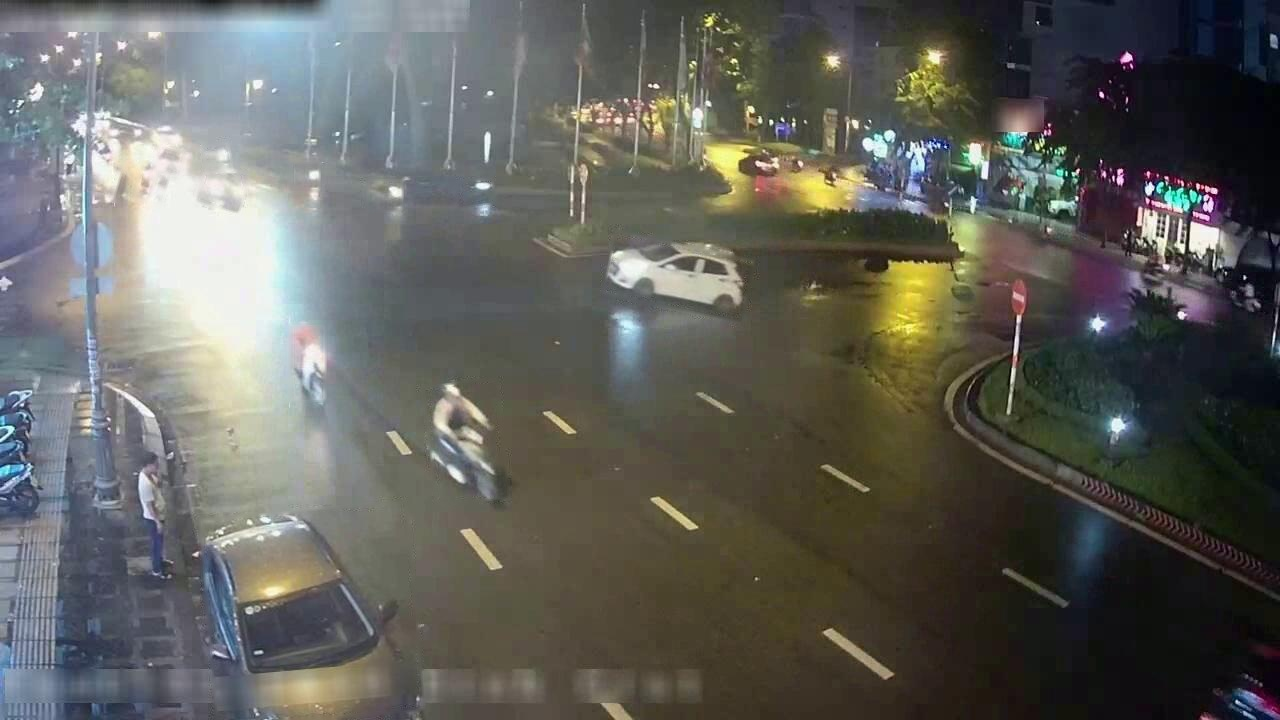Car: (200, 514, 419, 719), (606, 241, 743, 313), (291, 324, 327, 407), (0, 462, 39, 516), (197, 171, 243, 210), (0, 427, 28, 466), (738, 151, 779, 176), (0, 404, 33, 434), (156, 147, 182, 172)
Motorcyclist: (428, 383, 509, 505), (287, 162, 322, 196), (369, 180, 408, 206), (459, 181, 492, 205), (137, 161, 154, 198), (111, 166, 126, 203), (205, 147, 231, 168), (153, 172, 171, 202)
Pedestrian: (137, 453, 173, 579)
Sign: (1010, 279, 1028, 317)
Traffic light: (1097, 50, 1136, 111)
